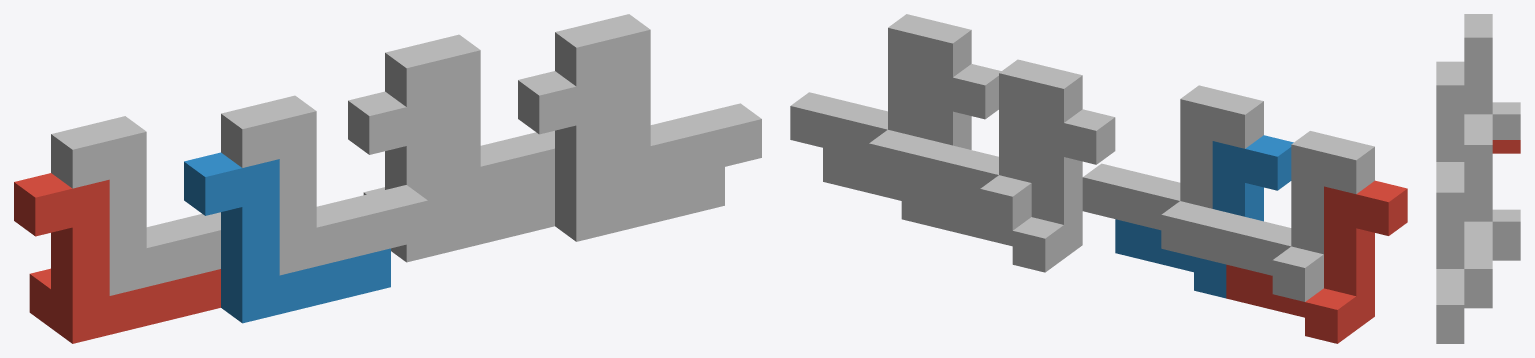
Rendered from tiling.obj.
3 renders of one model, left to right at view 1: azimuth 30°, elevation 25°; view 2: azimuth 150°, elevation 25°; view 3: azimuth 270°, elevation 25°, orthographic. The views are drawn at different scales.
Visible parts, largest first — view 1: copy_1_domain_1, copy_1_domain_4, copy_1_domain_8, copy_1_domain_2, copy_1_domain_6, copy_1_domain_7, copy_1_domain_3, copy_1_domain_5; view 2: copy_1_domain_7, copy_1_domain_3, copy_1_domain_8, copy_1_domain_4, copy_1_domain_5, copy_1_domain_1, copy_1_domain_2, copy_1_domain_6; view 3: copy_1_domain_8, copy_1_domain_7, copy_1_domain_3, copy_1_domain_4, copy_1_domain_6, copy_1_domain_1, copy_1_domain_5.
Boxes of the visible parts, x1,y1,x2,y2 form: copy_1_domain_1: (14,173,220,343); copy_1_domain_4: (221,95,427,275); copy_1_domain_8: (555,14,761,193); copy_1_domain_2: (184,152,390,323); copy_1_domain_6: (518,71,724,241); copy_1_domain_7: (385,34,554,214); copy_1_domain_3: (51,116,220,295); copy_1_domain_5: (348,91,554,262); copy_1_domain_7: (901,59,1082,230); copy_1_domain_3: (1194,131,1374,301); copy_1_domain_8: (790,14,971,185); copy_1_domain_4: (1082,85,1263,256); copy_1_domain_5: (934,109,1115,272); copy_1_domain_1: (1226,180,1407,343); copy_1_domain_2: (1115,135,1293,298); copy_1_domain_6: (823,64,1001,226); copy_1_domain_8: (1436,168,1492,330); copy_1_domain_7: (1464,121,1520,257); copy_1_domain_3: (1464,14,1520,139); copy_1_domain_4: (1436,61,1464,168); copy_1_domain_6: (1436,294,1492,343); copy_1_domain_1: (1492,140,1520,153); copy_1_domain_5: (1492,247,1520,260).
Size of the model in its own units: 19 by 5 by 3.
